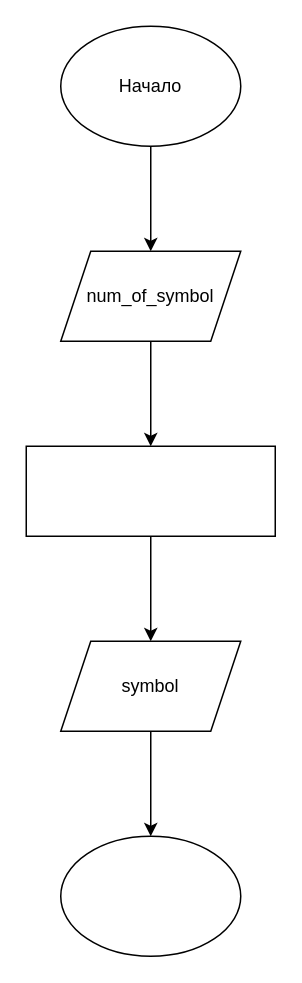
This 302x983 diagram has some shape labels left out. The shapes that lost their labels are listed below. From the top down, each one's centre as x and y in pixels, then its label:
At (150,490): "symbol = chr(num_of_symbol".
At (150,895): "Конец".
